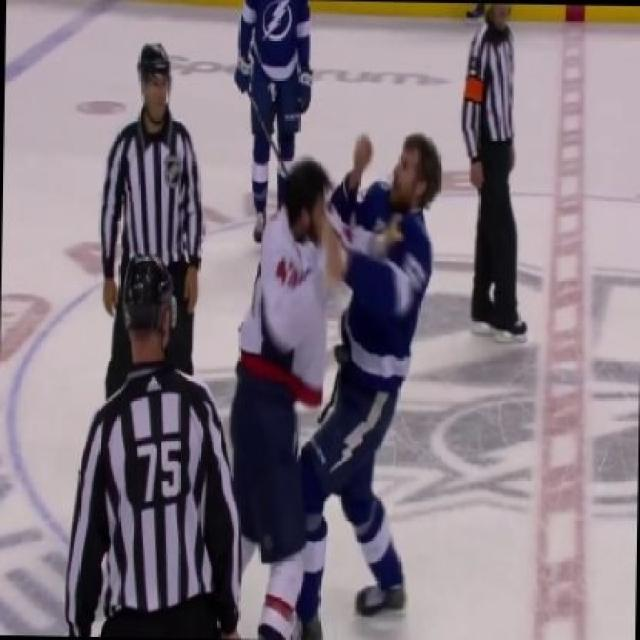fight: (229, 127, 441, 640)
non-fight: (63, 249, 243, 640), (96, 42, 205, 394), (458, 3, 531, 345), (229, 0, 317, 245)
